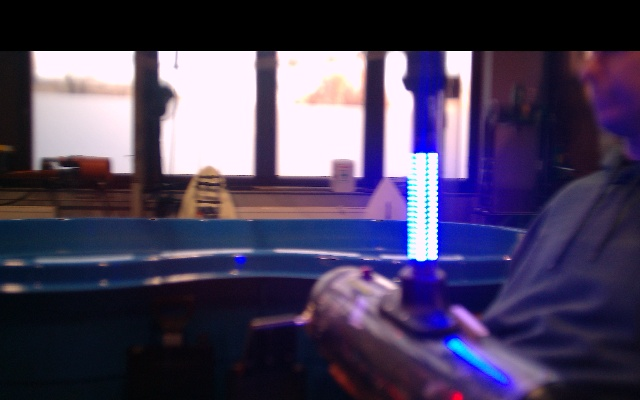blue: (408, 151, 441, 264)
